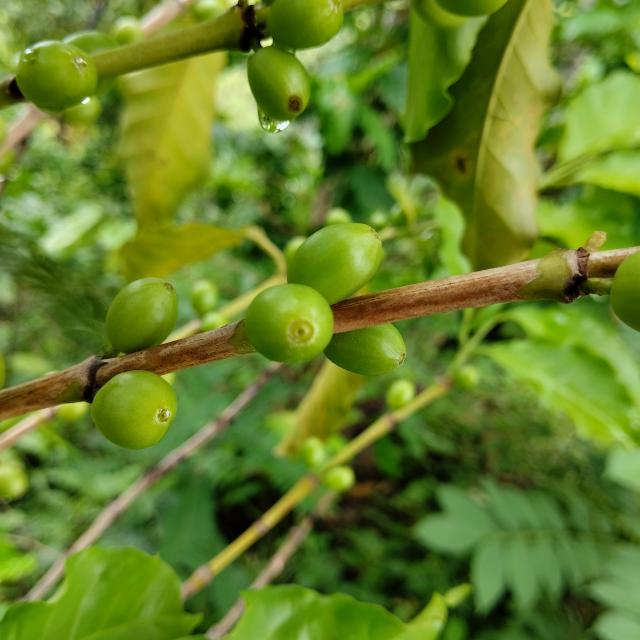green: (287, 222, 382, 305), (244, 284, 334, 363), (91, 371, 177, 450), (15, 40, 97, 108), (105, 277, 177, 354), (247, 45, 310, 119), (324, 323, 407, 376), (266, 0, 343, 48), (611, 251, 640, 331)
